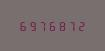eight: (57, 20, 66, 31)
nine: (27, 20, 36, 31)
seven: (37, 20, 46, 31), (67, 20, 76, 31)
six: (17, 20, 26, 31), (47, 20, 56, 31)
two: (77, 20, 86, 31)
